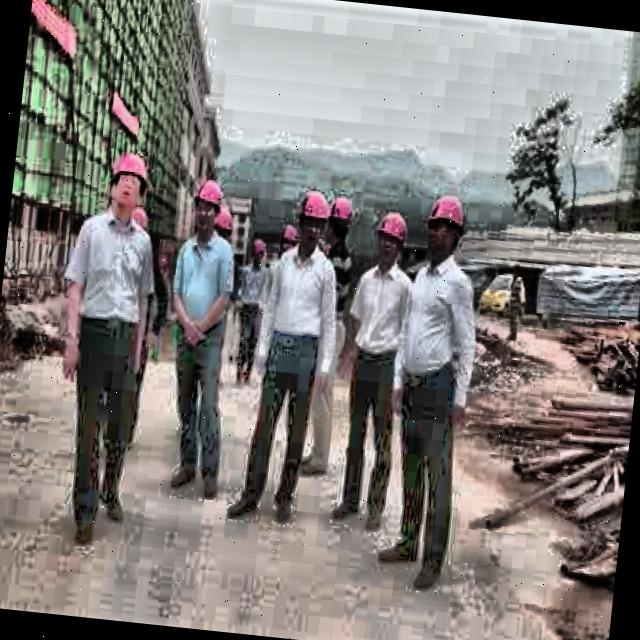helmet: (418, 190, 470, 262), (103, 145, 153, 218), (192, 172, 234, 244), (292, 187, 332, 256), (369, 208, 409, 271), (326, 197, 356, 254), (208, 206, 232, 258), (248, 234, 269, 274)
